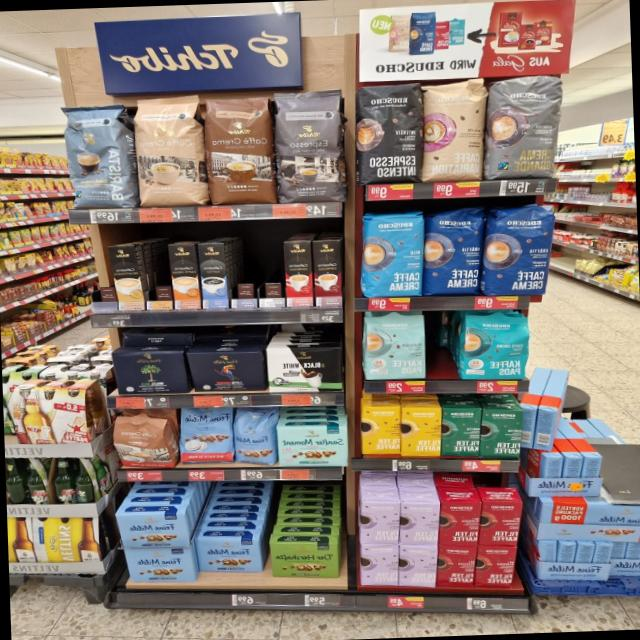BM Gemahlen: (110, 350, 186, 394)
BW Gemahlen: (264, 344, 342, 394)
Barista CC: (62, 100, 132, 210)
CC Mild: (132, 92, 203, 208)
CC Vollmundig: (110, 417, 171, 470)
CC Vollmundig 36 Pads: (203, 93, 274, 204)
Espresso M Art: (272, 87, 346, 204)
FM 36 Pads: (176, 408, 234, 465)
FM Bohne: (233, 411, 275, 466)
FM Gemahlen: (114, 510, 188, 550), (123, 546, 194, 584), (194, 536, 260, 575)
Herzhatfe Mundig: (268, 541, 341, 581)
LG Gemahlen: (187, 350, 266, 394)
SM Gemahlen: (278, 424, 348, 470)
Simo CCVollmundig bigpack: (167, 243, 200, 309)
Simo Decaff: (107, 243, 145, 310)
Simo Es Brazil: (284, 240, 312, 306)
Simo Es Caramel: (312, 238, 343, 306)
Simo Es Vanilla: (200, 242, 228, 308)
